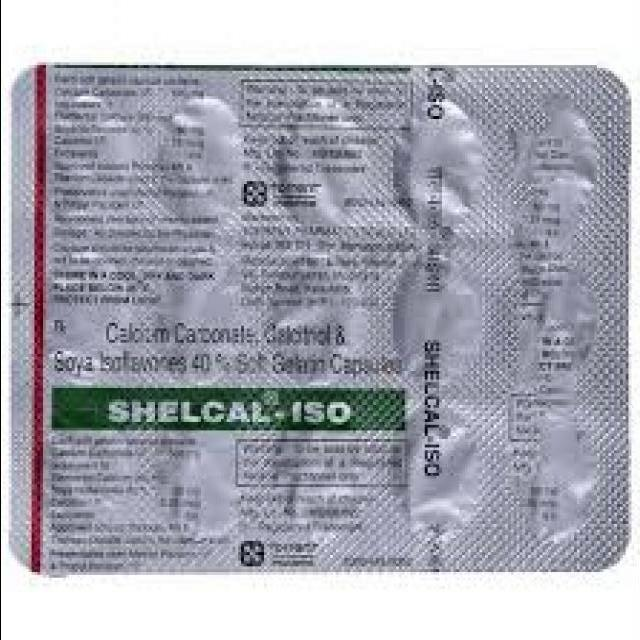authentic: (4, 54, 638, 585)
